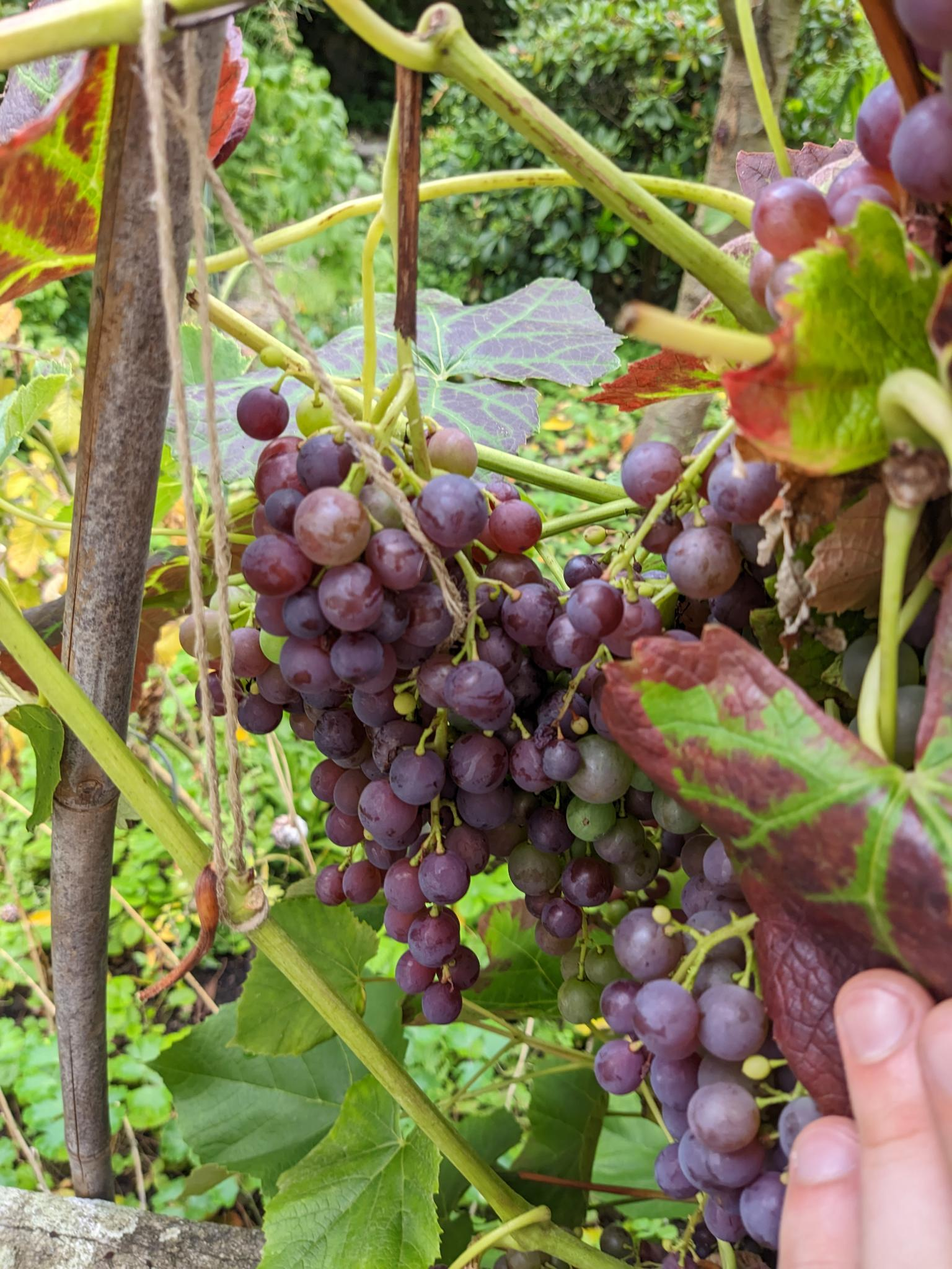Grape Ripe: (234, 387, 574, 1024), (602, 840, 821, 1251), (751, 0, 952, 316), (646, 434, 780, 600)
